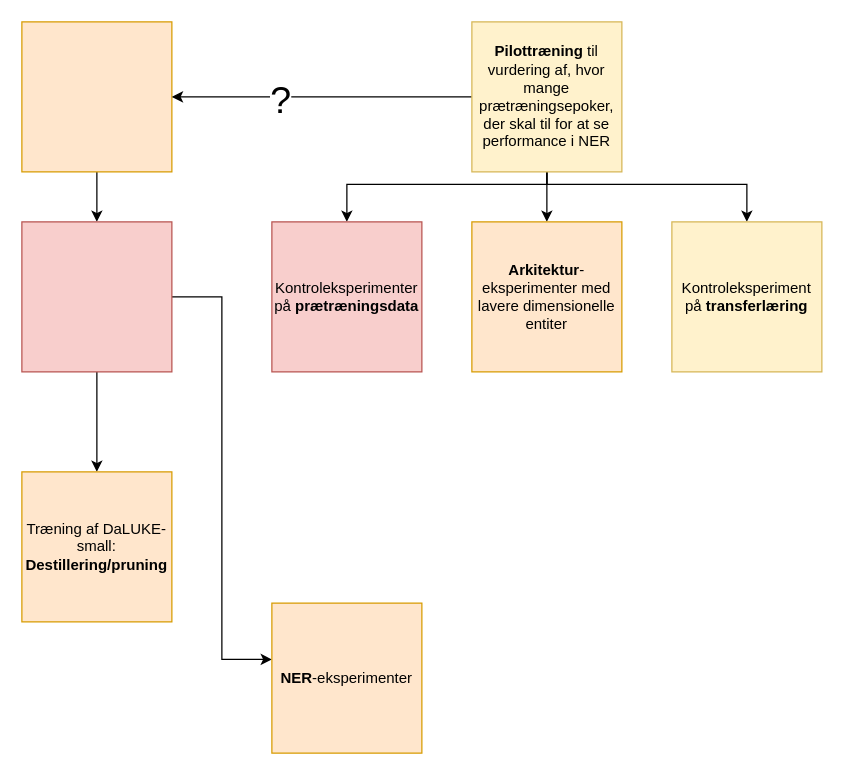
The diagram is 844 pixels wide and 775 high, and some of its shapes have lost their labels. The box of each missing label's shape, as (x1, y1, x2, y2) in pixels:
Hovedtræning af DaLUKE v2 på TPU i maksimalt antal epoker: (21, 221, 172, 372)
Hyperparameter -eksperimenter til hovedtræning: (21, 21, 172, 172)
